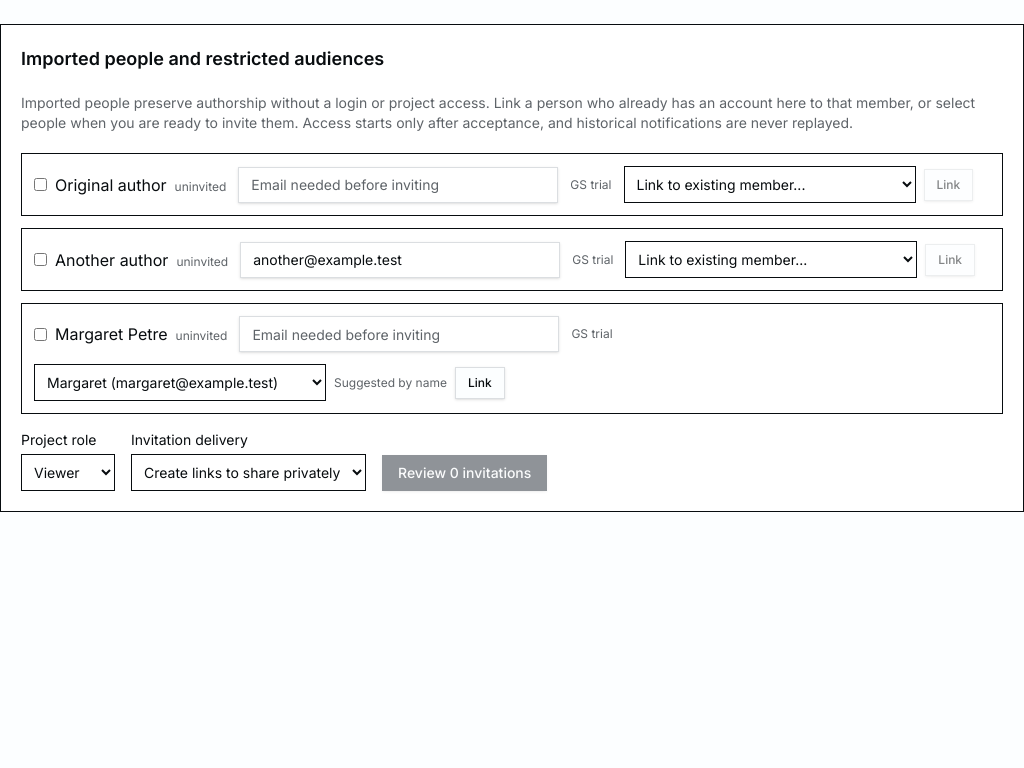
Test: Imported people invitation boundary › creates no invitations until the selected recipients and access have been reviewed and confirmed
The width and height of the screenshot is (1024, 768).
Check: the text "Original author" is shown, box [55,174,166,194]
Click the checkbox labelled "Original author": point(40, 184) [34,178,47,191]
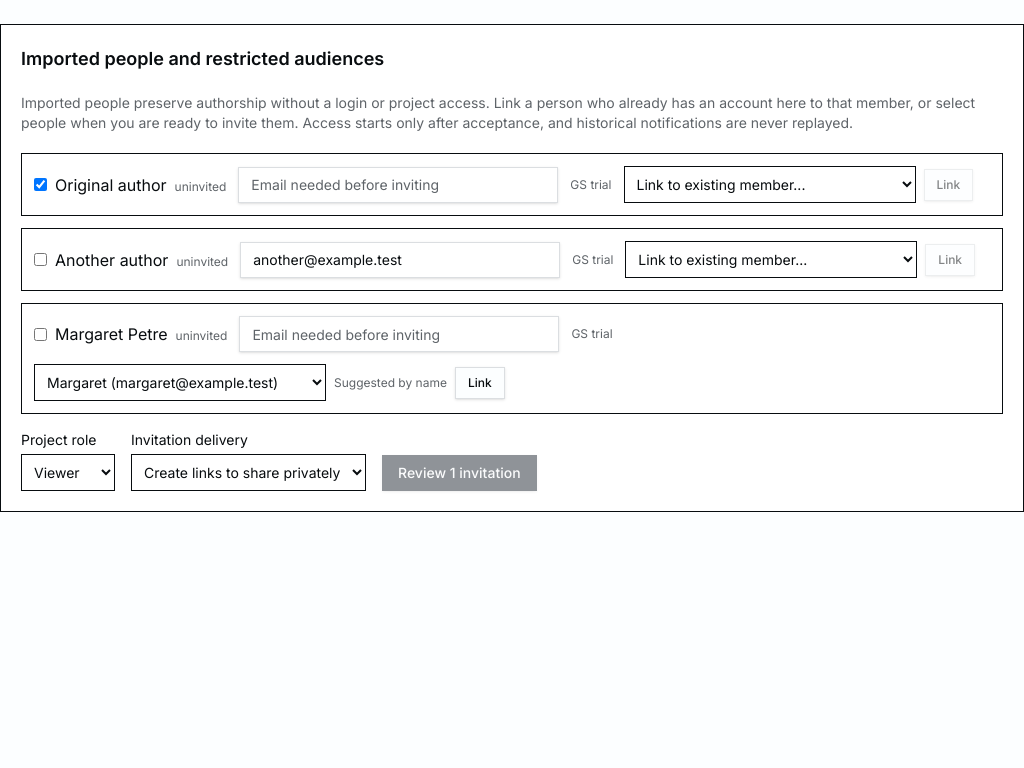
In the field named "Invitation email for Original author": point(398, 184) [238,166,558,202], type "author@example.test"
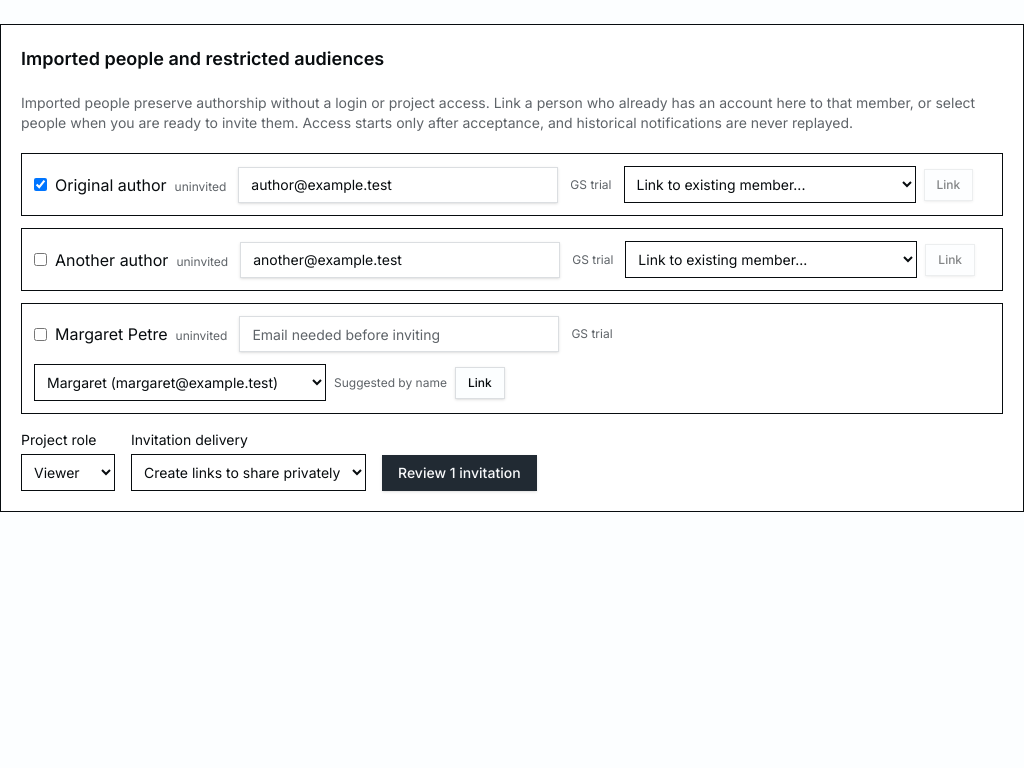
Click the button "Review 1 invitation": point(459, 473) [382,455,537,491]
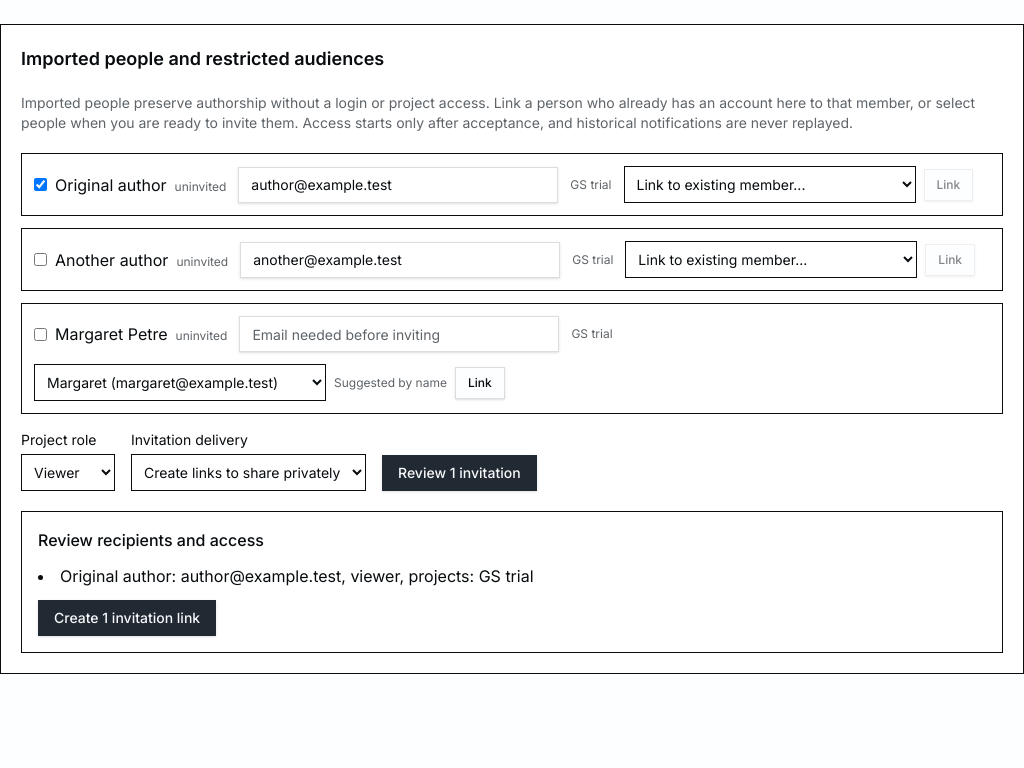
Check: the element named "Invitation review" shows "viewer, projects: GS trial", box [21,511,1003,653]
Click the button "Create 1 invitation link": point(127, 618) [38,600,216,636]
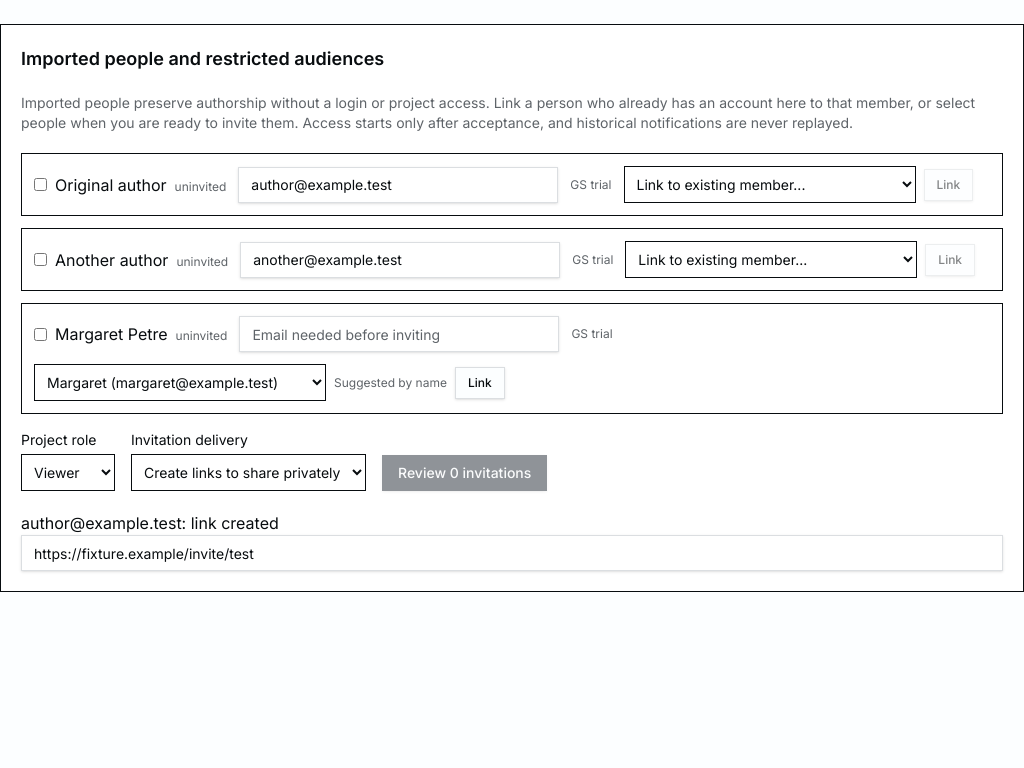
Check: the field named "Invitation link for author@example.test" is shown, box [21,535,1003,571]
